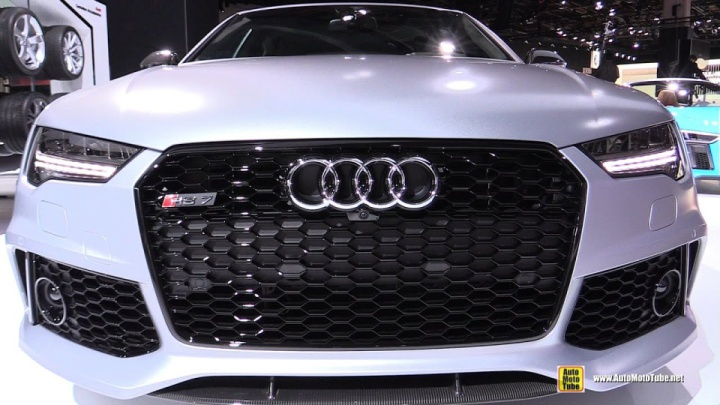audi: (279, 147, 440, 218)
